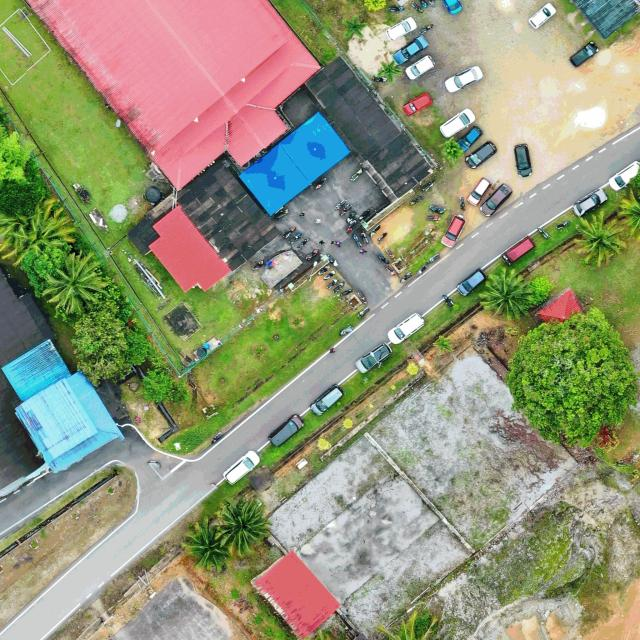Tree: (506, 305, 638, 450), (70, 307, 148, 387), (0, 198, 76, 265), (40, 254, 108, 314), (214, 496, 272, 556), (478, 263, 536, 323), (573, 210, 627, 268), (181, 517, 234, 574), (137, 369, 190, 406), (617, 188, 640, 241), (525, 274, 554, 304), (376, 60, 402, 84), (433, 334, 453, 355), (361, 0, 391, 12), (316, 436, 332, 450)
